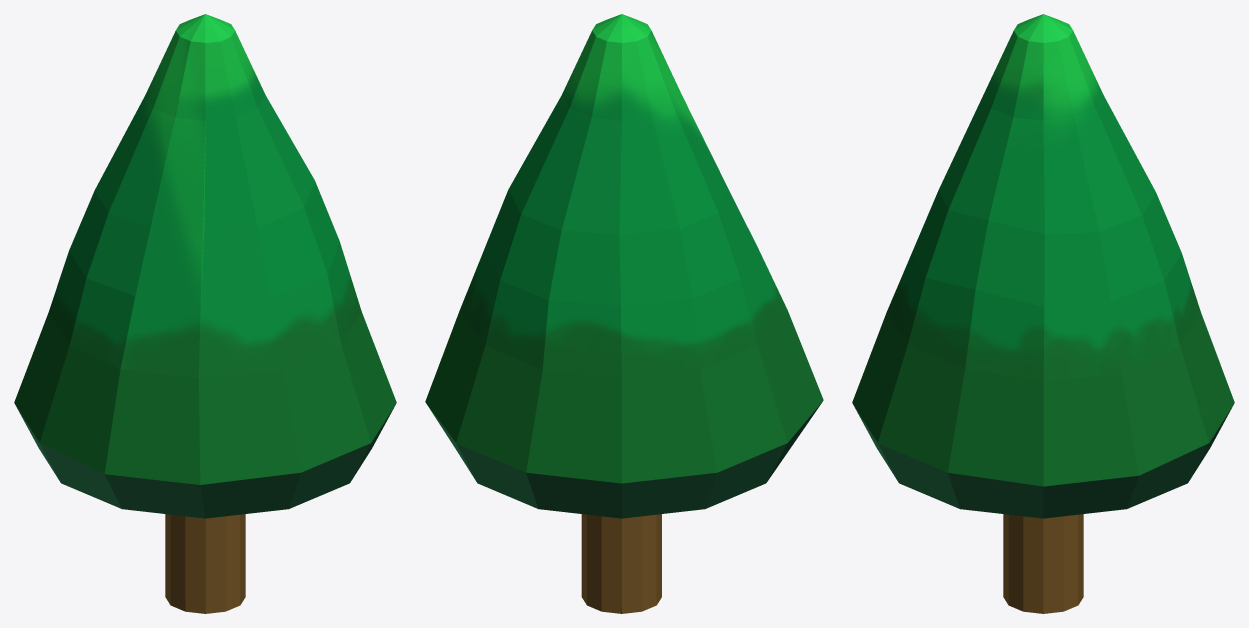
Rendered from skinny_tree.fbx.
3 renders of one model, left to right at view 1: azimuth 30°, elevation 25°; view 2: azimuth 150°, elevation 25°; view 3: azimuth 270°, elevation 25°, orthographic.
Visible parts, largest first — view 1: Cylinder; view 2: Cylinder; view 3: Cylinder.
Boxes of the visible parts, <box> form: Cylinder: <box>14,14,396,613</box>; Cylinder: <box>425,14,823,613</box>; Cylinder: <box>852,14,1234,613</box>.
Bounding box in the file's own units: 585 × 967 × 575.
1 material, 1 textured.
